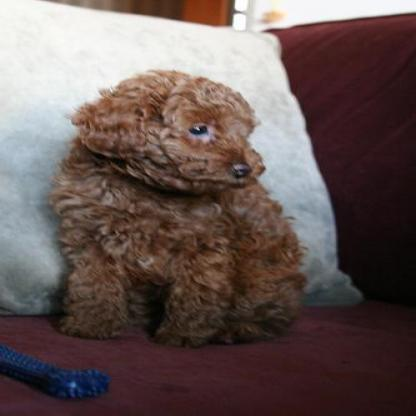miniature_poodle: (40, 66, 312, 344)
